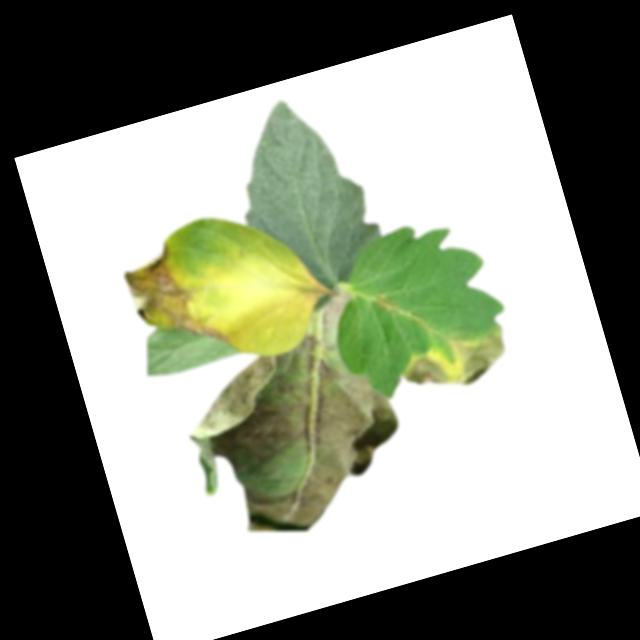Late_blight: (171, 318, 420, 555), (117, 232, 235, 376), (395, 320, 515, 401), (311, 285, 358, 331), (370, 289, 398, 319)
